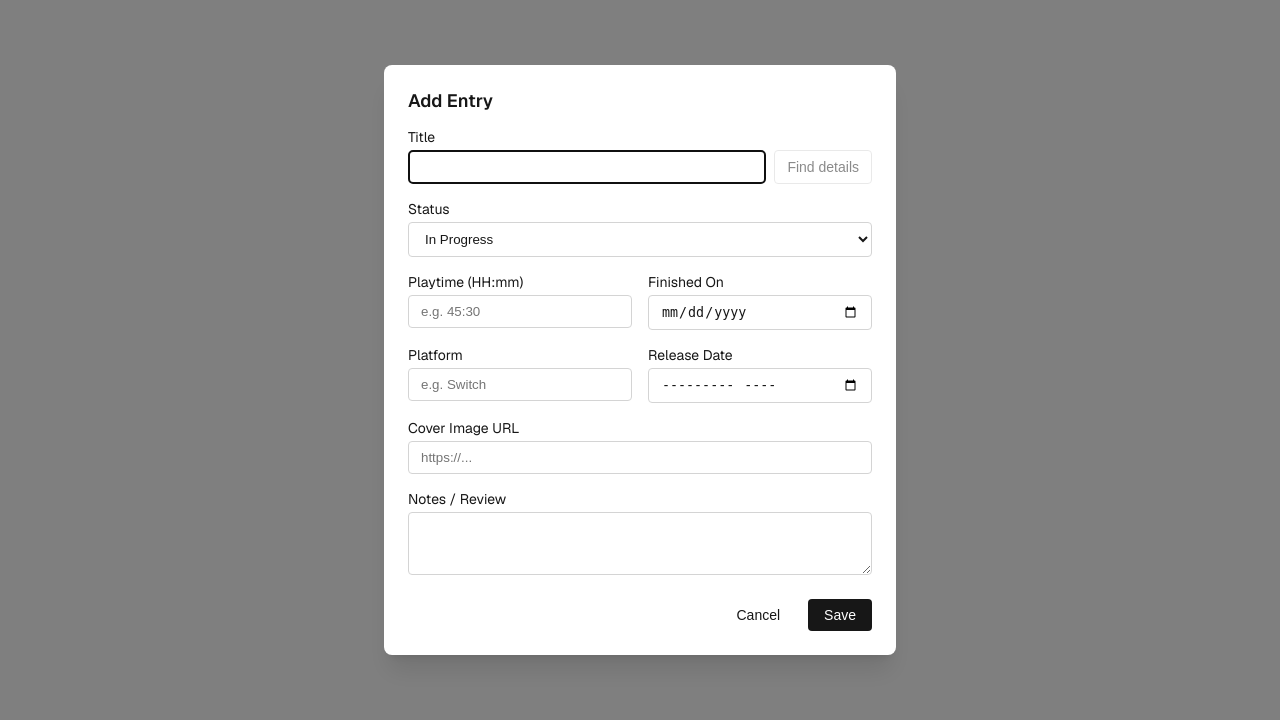
HistoryFormModal › shows a validation error for a malformed playtime value
Type "Celeste" into the field labelled "Title" at {"x": 587, "y": 167}, box [408, 150, 766, 184]
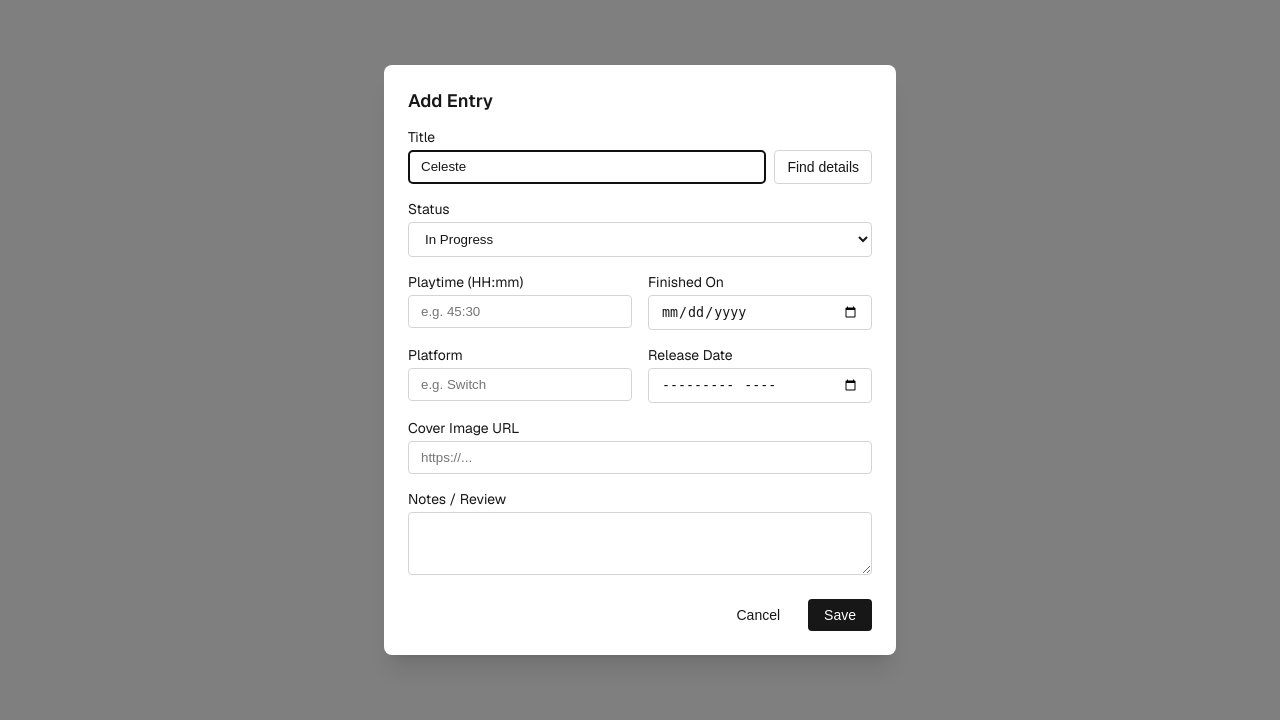
Type "not-a-time" into the field labelled "Playtime (HH:mm)" at {"x": 520, "y": 311}, box [408, 295, 632, 328]
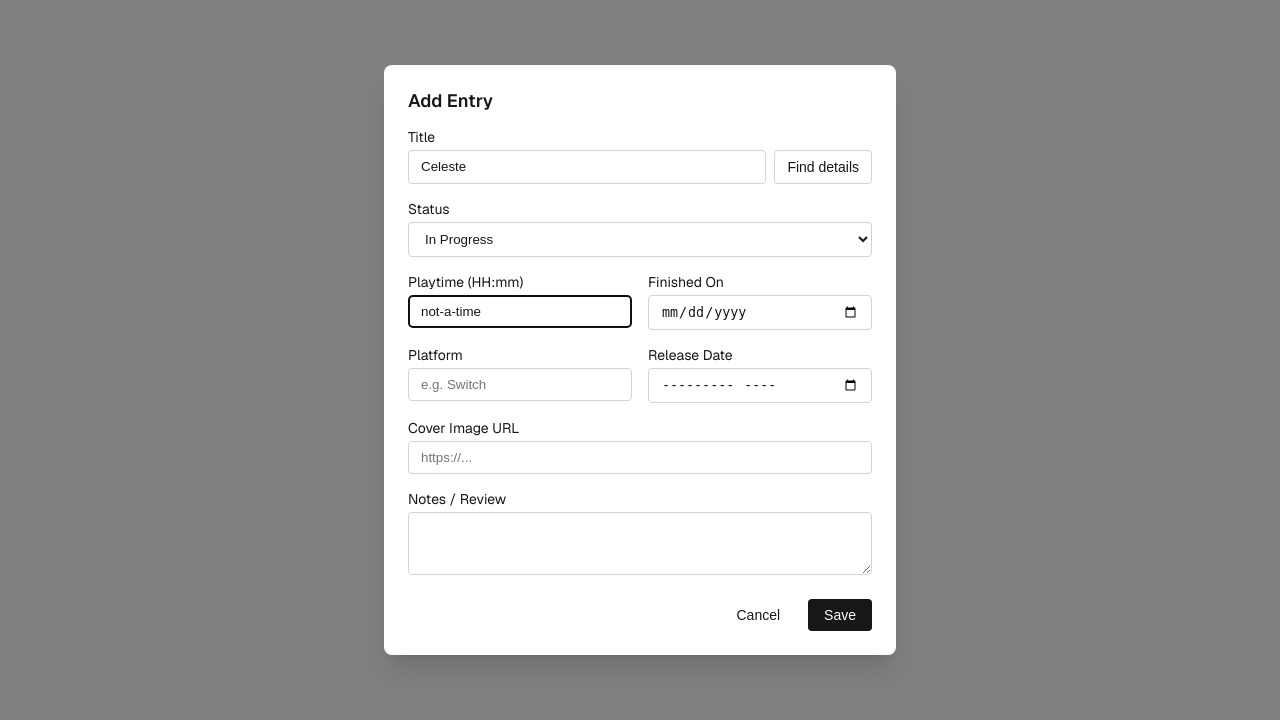
Click the button "Save" at {"x": 840, "y": 615}, box [808, 599, 872, 631]
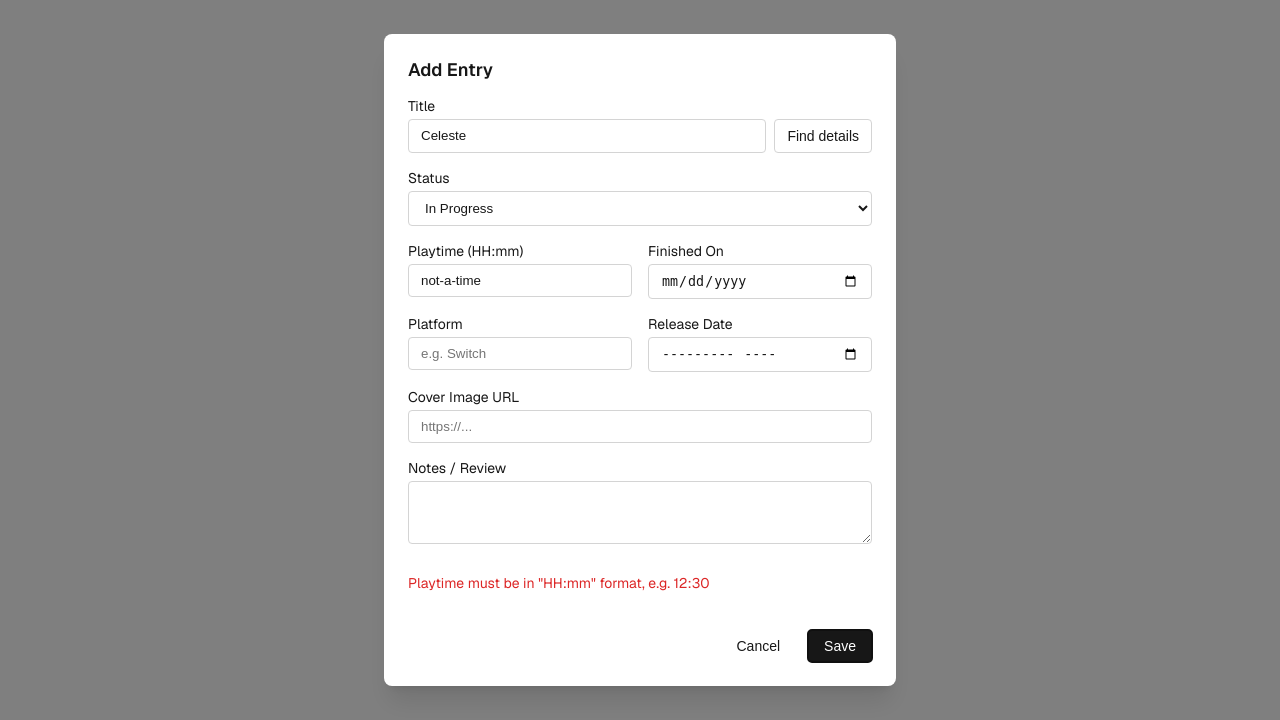
Expected: the text "Playtime must be in \"HH:mm\" format, e.g. 12:30" is shown, [408, 574, 710, 592]
